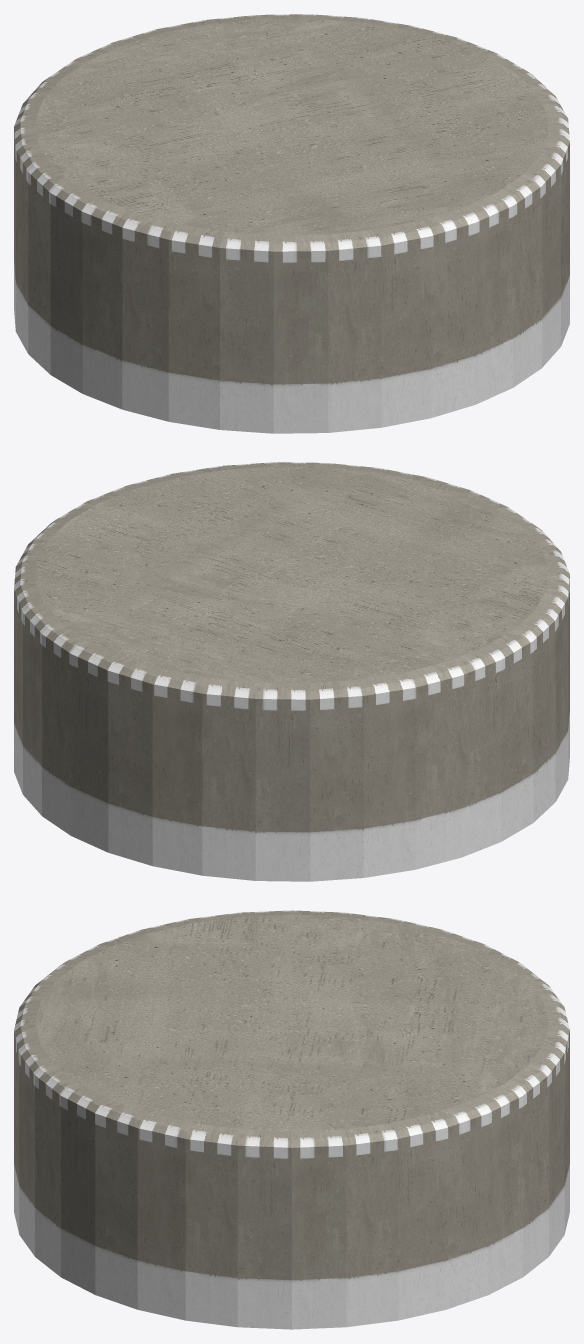
Rendered from round_concrete_base.dae.
The picture shows the model from 3 angles, top to bottom: view 1: azimuth 30°, elevation 25°; view 2: azimuth 150°, elevation 25°; view 3: azimuth 270°, elevation 25°; orthographic projection.
Parts seen in each view (by area): view 1: Cylinder; view 2: Cylinder; view 3: Cylinder.
Part boxes in pixels (x1=…): Cylinder: x1=14, y1=14, x2=569, y2=433; Cylinder: x1=14, y1=462, x2=569, y2=881; Cylinder: x1=14, y1=910, x2=569, y2=1329.
Bounding box in the file's own units: 1.6 × 1.6 × 0.6.
1 material, 1 textured.
